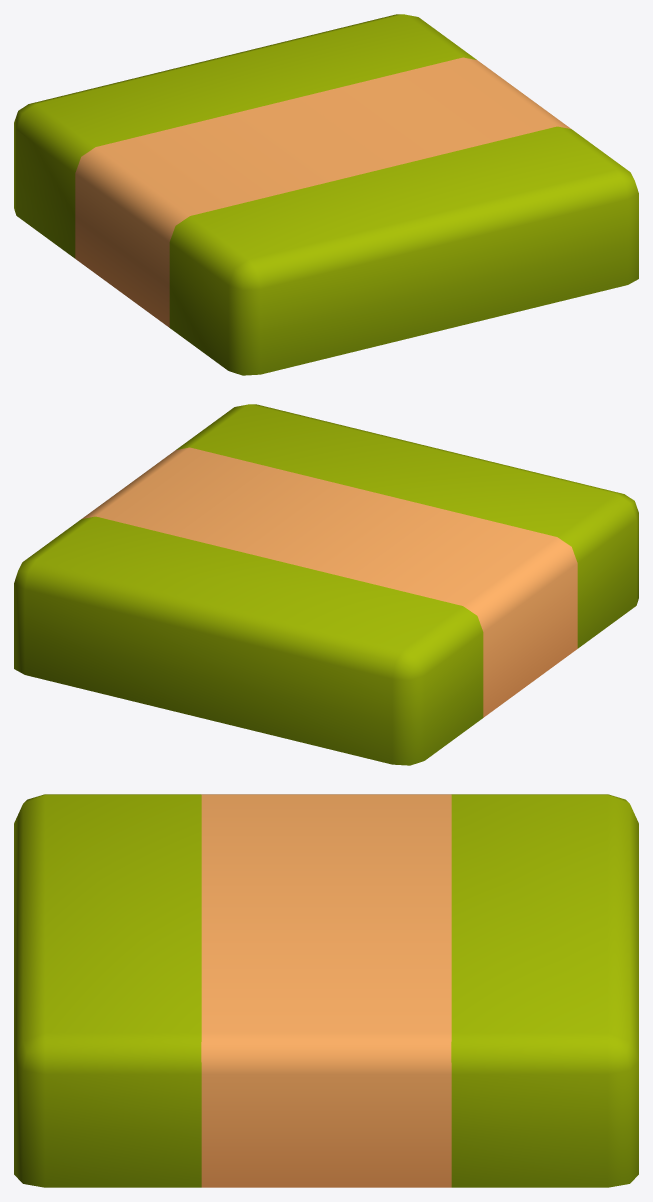
File: 3D_Tile_Top_Path_01.fbx
3 views of the same model, one above another, from view 1: azimuth 30°, elevation 25°; view 2: azimuth 150°, elevation 25°; view 3: azimuth 270°, elevation 25° (orthographic). The views are drawn at different scales.
Parts seen in each view (by area): view 1: 3D_Tile_Top_Path_01; view 2: 3D_Tile_Top_Path_01; view 3: 3D_Tile_Top_Path_01.
Part boxes in pixels (<box>): 3D_Tile_Top_Path_01: <box>14,14,638,375</box>; 3D_Tile_Top_Path_01: <box>14,404,638,765</box>; 3D_Tile_Top_Path_01: <box>14,794,638,1187</box>.
Bounding box in the file's own units: 200 × 50 × 200.
